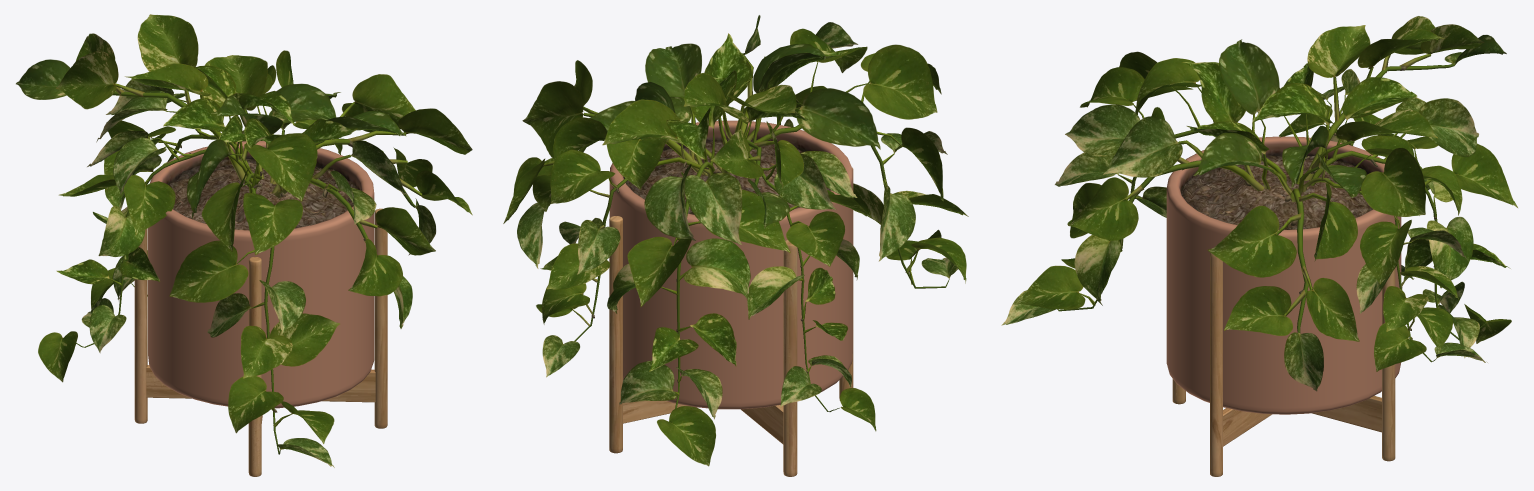
Rendered from plant_pothos.glb.
3 views of the same model, side by side, from view 1: azimuth 30°, elevation 25°; view 2: azimuth 150°, elevation 25°; view 3: azimuth 270°, elevation 25° (orthographic). The views are drawn at different scales.
Visible parts, largest first — view 1: POTHOS_POTHOS_Mat_0, POT_WOOD_LEGS_WOODEN_LEGS_POT_0; view 2: POTHOS_POTHOS_Mat_0, POT_WOOD_LEGS_WOODEN_LEGS_POT_0; view 3: POTHOS_POTHOS_Mat_0, POT_WOOD_LEGS_WOODEN_LEGS_POT_0.
Boxes of the visible parts, x1,y1,x2,y2 form: POTHOS_POTHOS_Mat_0: (16, 14, 472, 467); POT_WOOD_LEGS_WOODEN_LEGS_POT_0: (134, 141, 387, 476); POTHOS_POTHOS_Mat_0: (503, 15, 968, 466); POT_WOOD_LEGS_WOODEN_LEGS_POT_0: (609, 120, 853, 476); POTHOS_POTHOS_Mat_0: (1001, 16, 1517, 391); POT_WOOD_LEGS_WOODEN_LEGS_POT_0: (1166, 136, 1401, 476).
Bounding box in the file's own units: 0.7638 × 0.7315 × 0.9002.
Materials: 2 (2 with a texture image).
